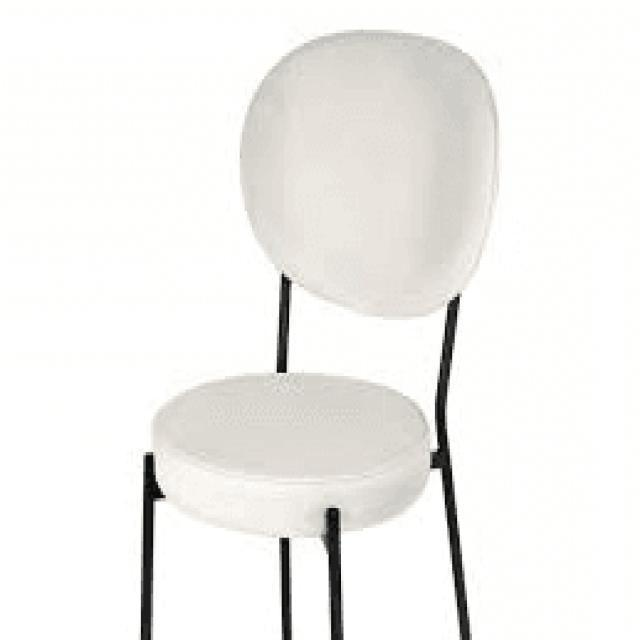chair: (138, 28, 500, 639)
